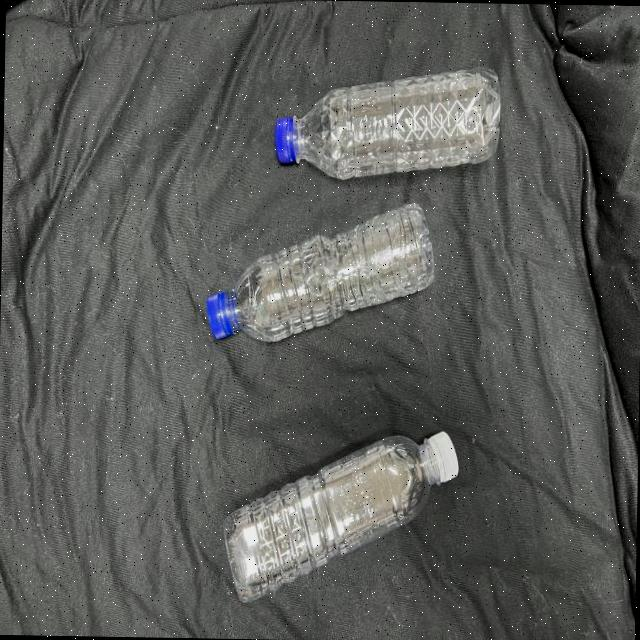bottle: (218, 405, 471, 614), (187, 187, 449, 371), (267, 59, 508, 188)
cap: (419, 430, 463, 487), (269, 110, 300, 172), (202, 290, 240, 340)
